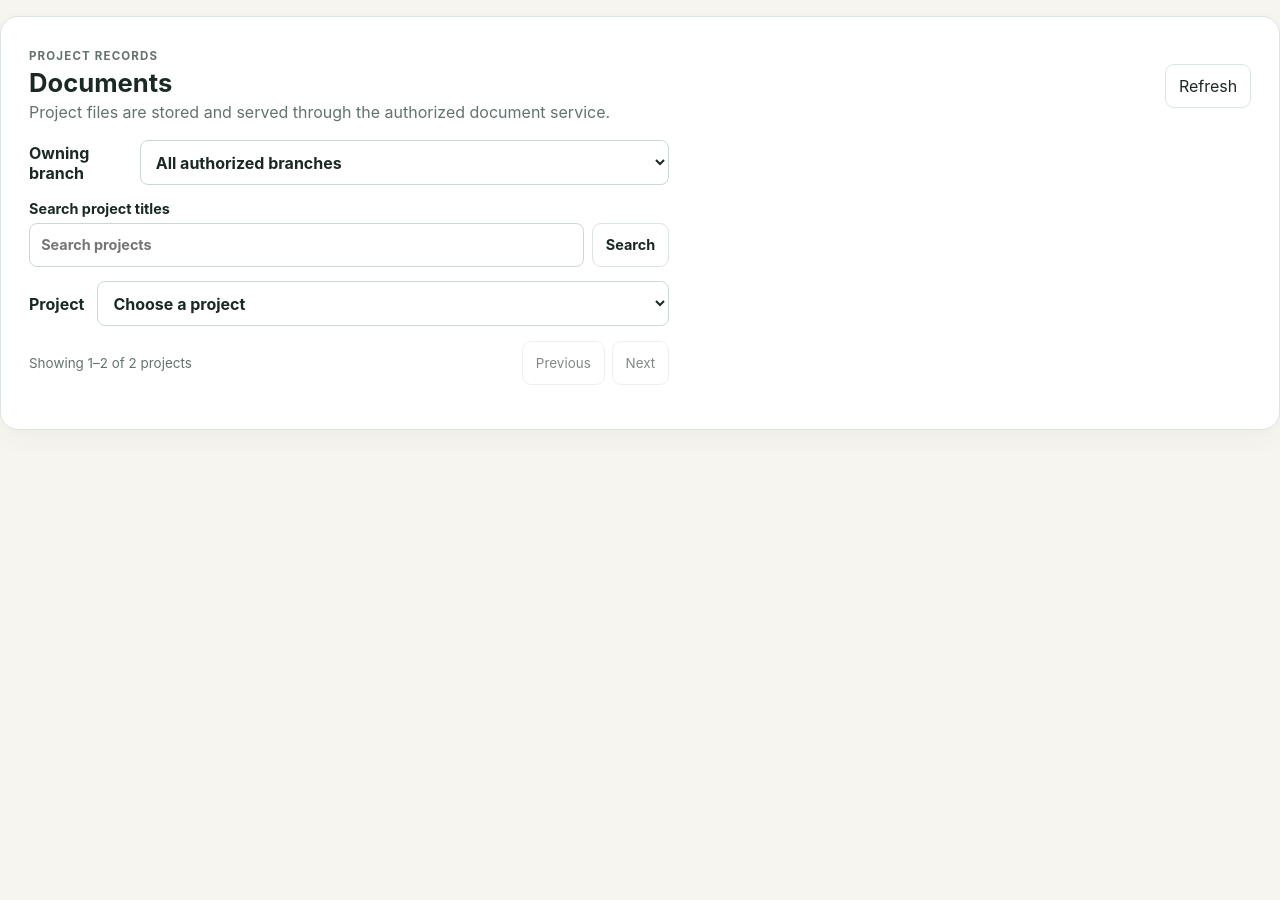
Scenario: DocumentWorkspace authorized project picker › ignores a late register response after a newer project is selected
Select "Central" in the dropdown named "Document project branch": {"x": 404, "y": 163} [140,140,669,185]
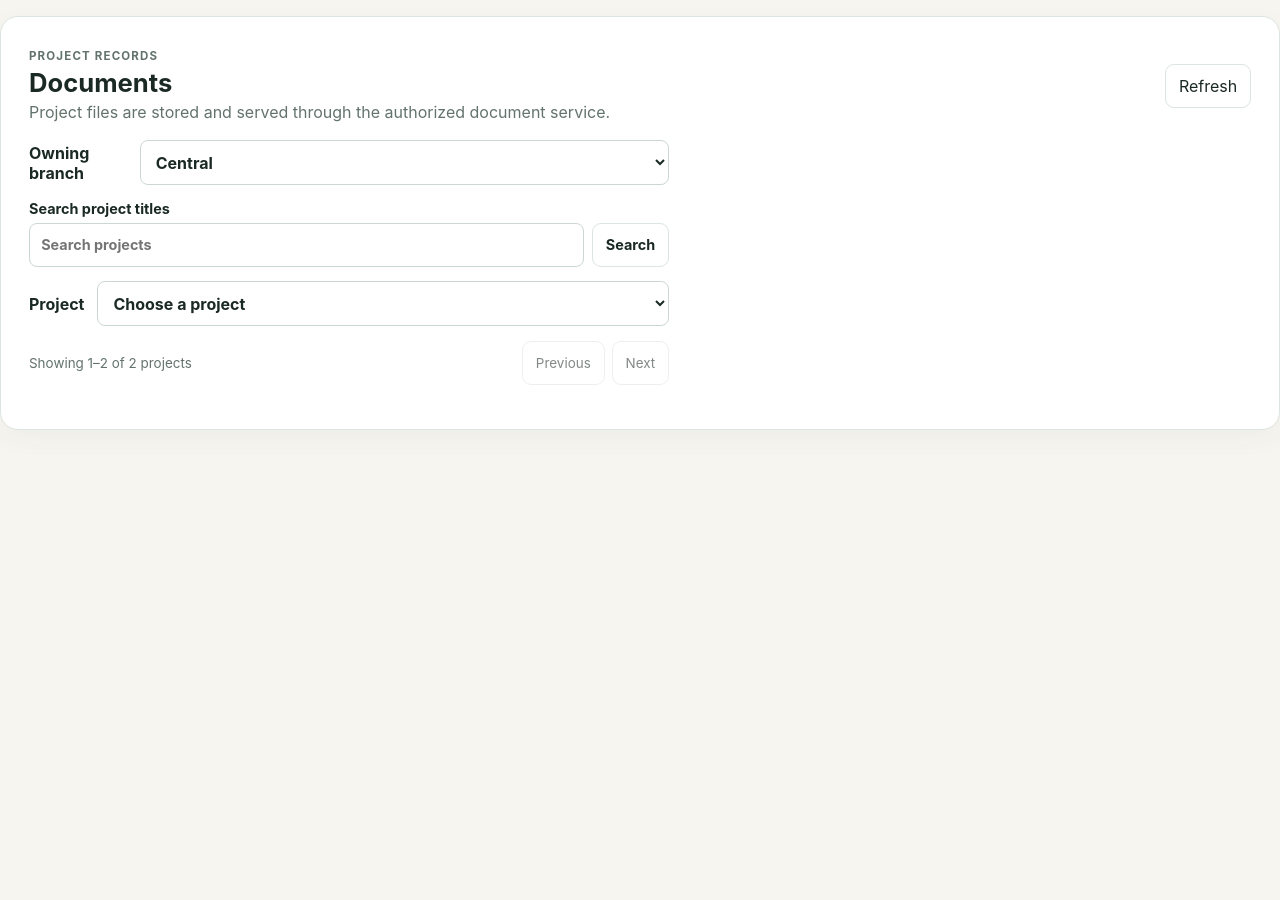
Expected: the text "Showing 1–2 of 2 projects" is shown, [29,354,192,370]
Select "Project One" in the dropdown named "Document project": {"x": 383, "y": 304} [97,281,669,326]
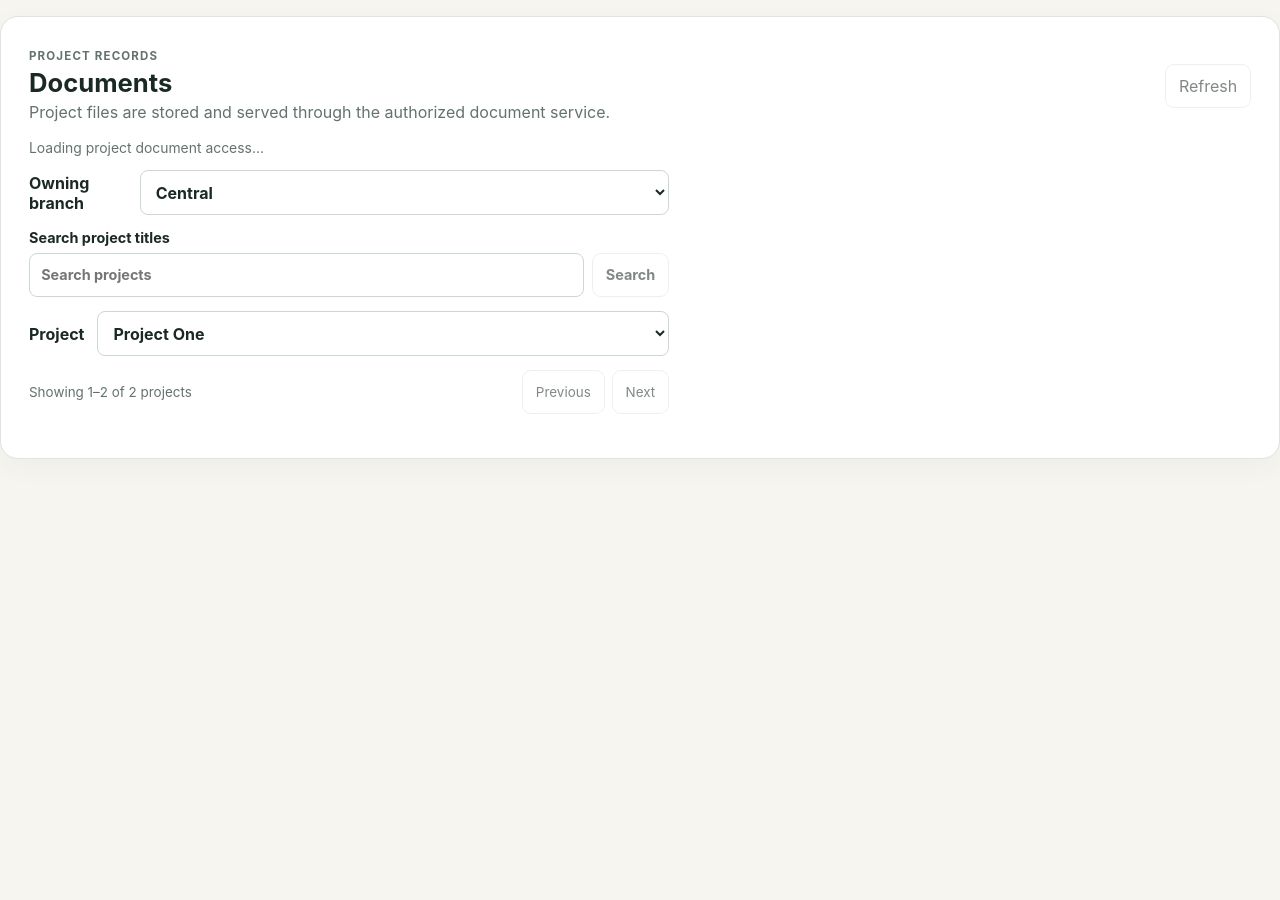
Select "Project Two" in the dropdown named "Document project": {"x": 383, "y": 334} [97,311,669,356]
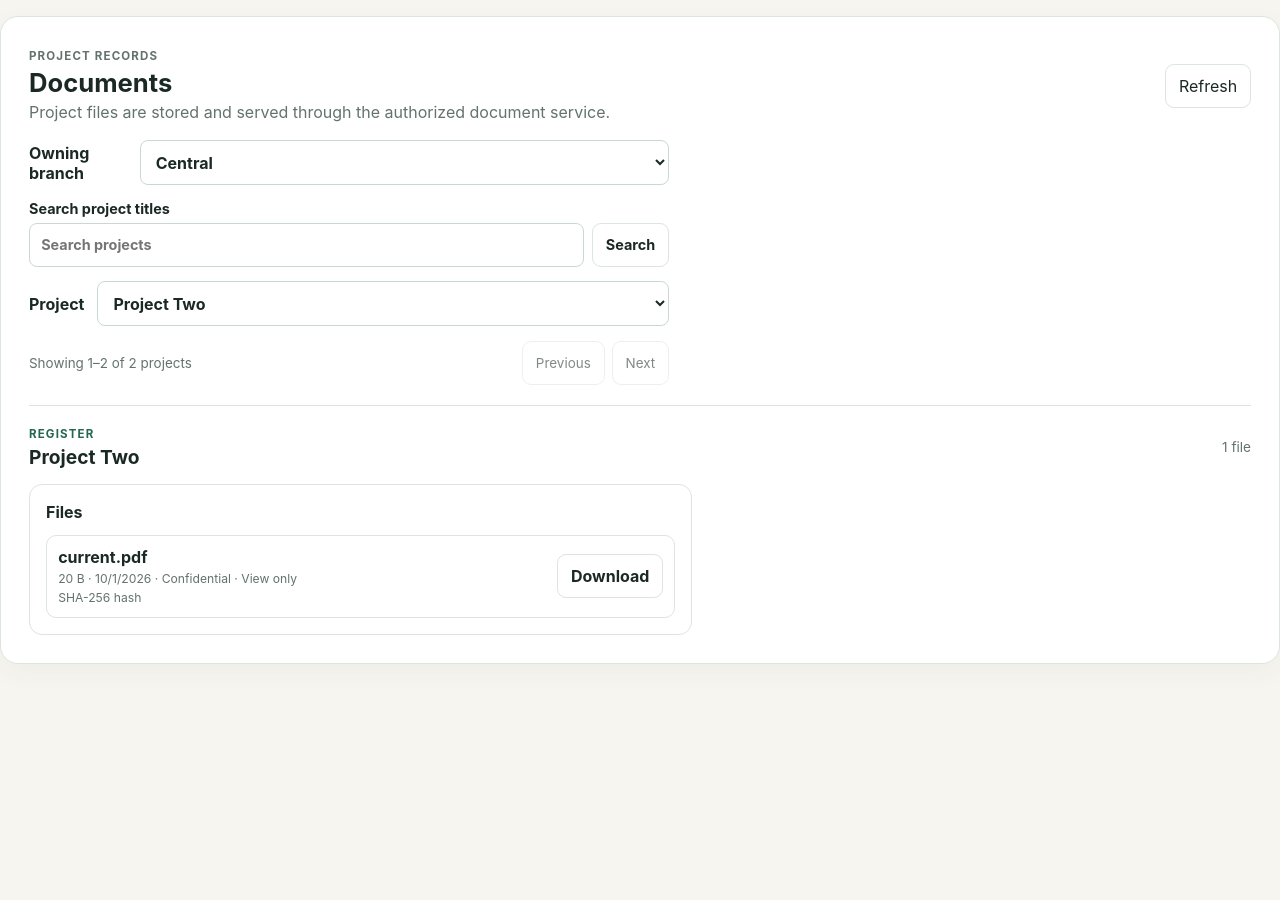
Result: the heading "Project Two" is shown at [29,445,140,469]
Result: the text "current.pdf" is shown at [58,548,148,568]
